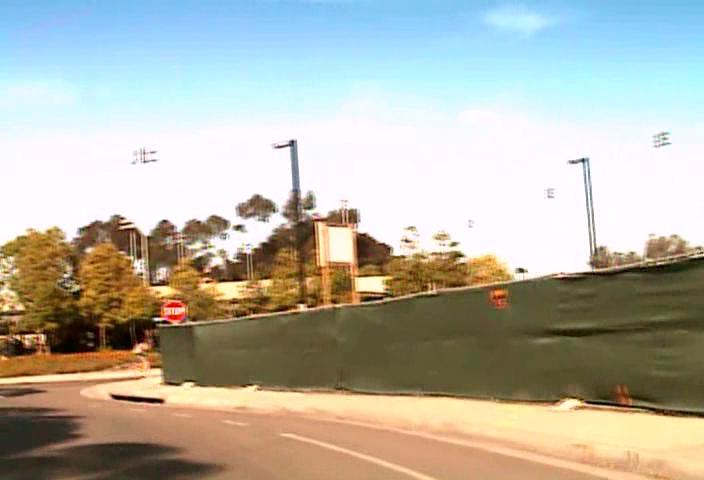stop: (161, 299, 186, 323)
